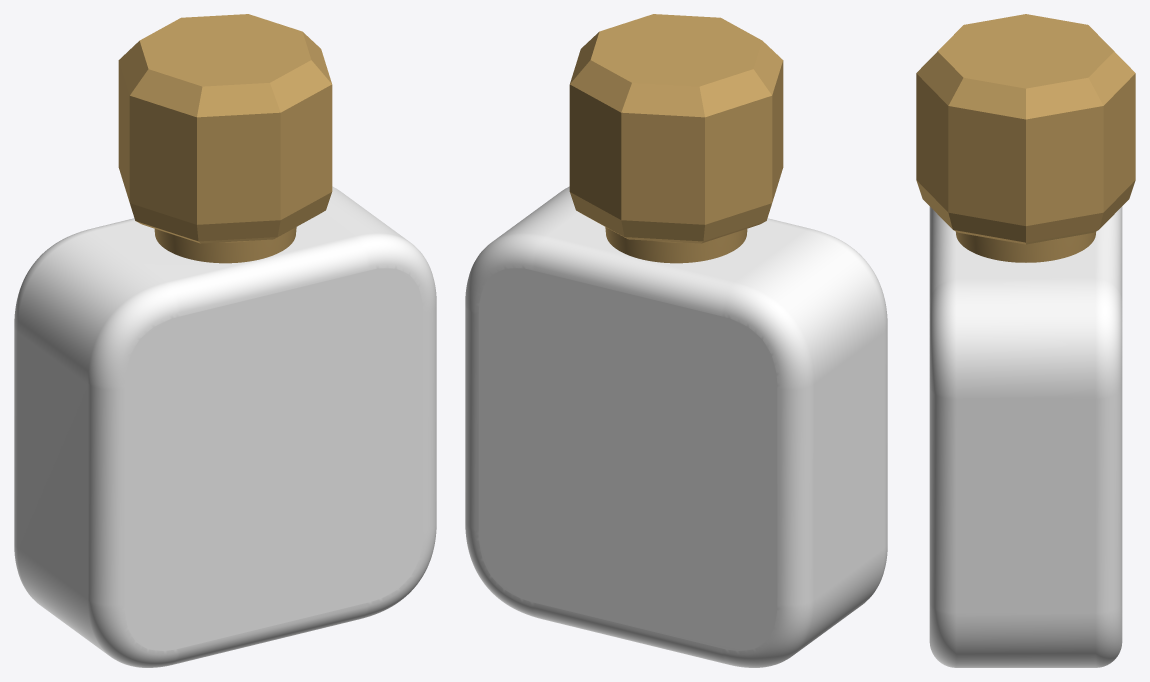
File: perfume.glb
3 renders of one model, left to right at view 1: azimuth 30°, elevation 25°; view 2: azimuth 150°, elevation 25°; view 3: azimuth 270°, elevation 25°, orthographic.
Parts seen in each view (by area): view 1: glass-body, cap, collar; view 2: glass-body, cap, collar; view 3: glass-body, cap, collar.
Boxes of the visible parts, x1,y1,x2,y2 form: glass-body: (14, 186, 436, 667); cap: (118, 14, 332, 243); collar: (154, 227, 296, 263); glass-body: (465, 186, 887, 667); cap: (569, 14, 783, 243); collar: (605, 227, 747, 263); glass-body: (929, 206, 1122, 667); cap: (916, 14, 1135, 244); collar: (955, 231, 1096, 262).
Bounding box in the file's own units: 0.74 × 1.16 × 0.41.
